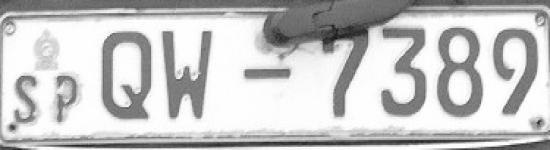-: (240, 62, 297, 85)
3: (376, 21, 431, 121)
7: (321, 27, 372, 124)
8: (436, 24, 488, 124)
9: (491, 24, 541, 120)
P: (50, 69, 86, 130)
Q: (94, 25, 157, 125)
S: (9, 66, 45, 128)
W: (160, 25, 215, 123)
